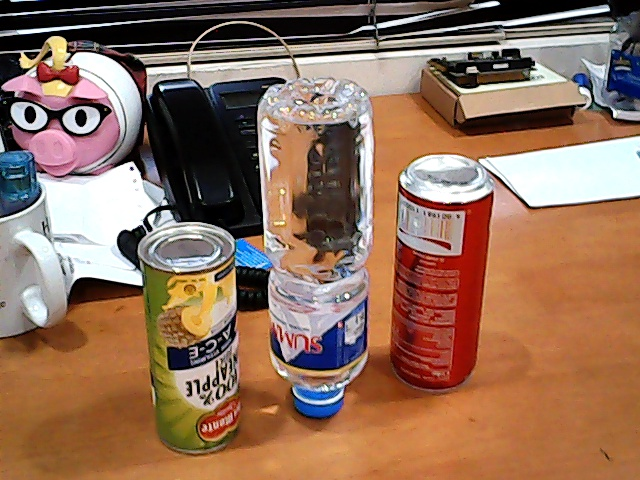Cola: (385, 128, 506, 407)
Pine Juice: (131, 210, 246, 464)
Summit Water: (254, 59, 385, 426)
